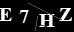7: (18, 9, 30, 24)
E: (1, 6, 12, 22)
H: (38, 13, 55, 28)
Z: (58, 7, 73, 22)
